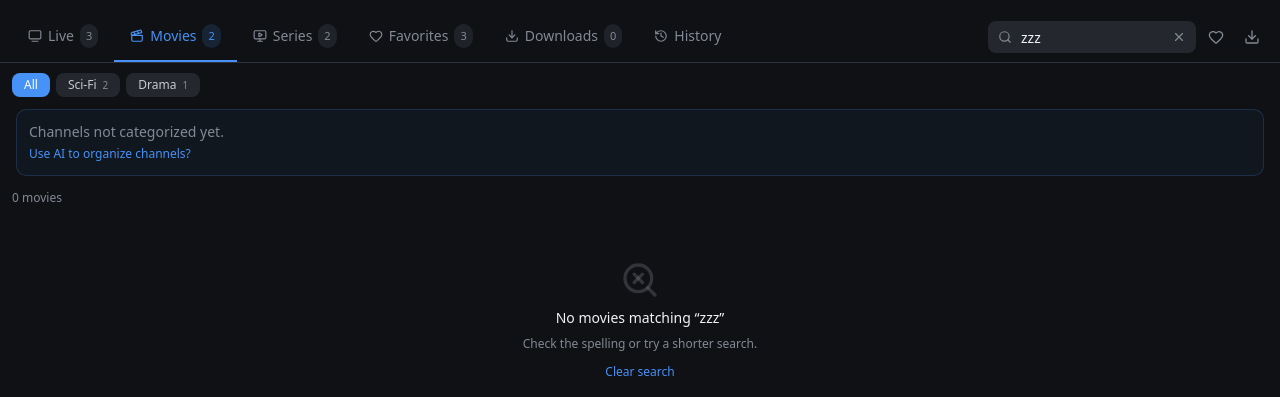
it: ChannelList search › says nothing matched and clears the search from there
This screenshot has width=1280, height=397.
Check: the text "No movies matching “zzz”" is shown, box [556,308,724,328]
Check: the text "Check the spelling or try a shorter search." is shown, box [523,336,757,352]
Click the button "Clear search" at [640, 372], box [605,364,675,380]
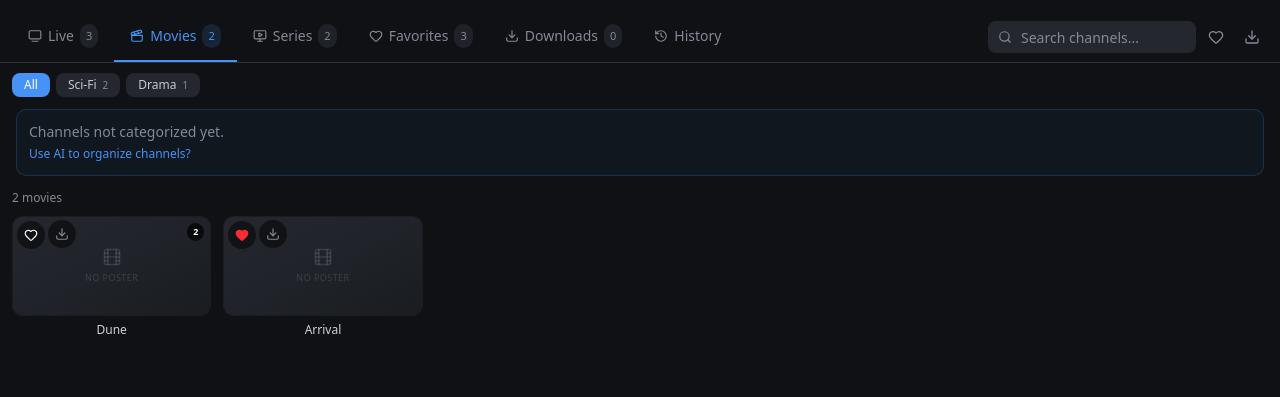
Check: the field with placeholder "Search channels..." is empty, box [988,21,1196,53]
Check: the text "2 movies" is shown, box [12,189,62,206]
